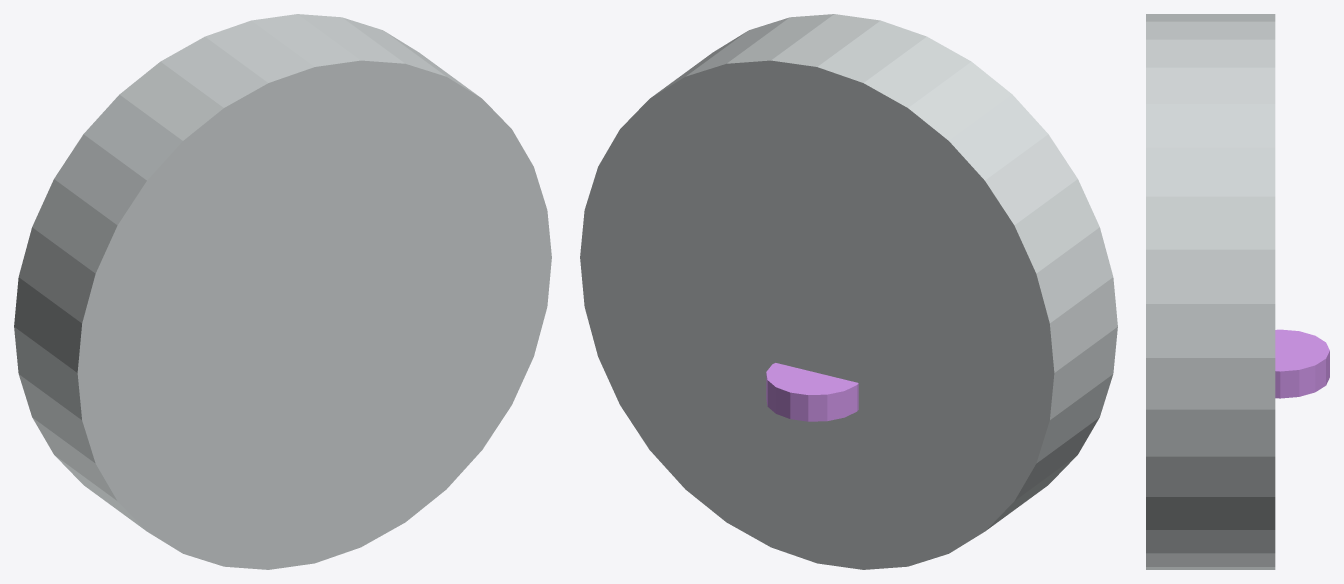
Rendered from smoke-co-detector.glb.
3 renders of one model, left to right at view 1: azimuth 30°, elevation 25°; view 2: azimuth 150°, elevation 25°; view 3: azimuth 270°, elevation 25°, orthographic.
Parts seen in each view (by area): view 1: world; view 2: world; view 3: world.
Part boxes in pixels (x1=…): world: x1=14, y1=14, x2=551, y2=569; world: x1=580, y1=14, x2=1117, y2=569; world: x1=1146, y1=14, x2=1329, y2=569.
Bounding box in the file's own units: 0.56 × 0.56 × 0.185.
